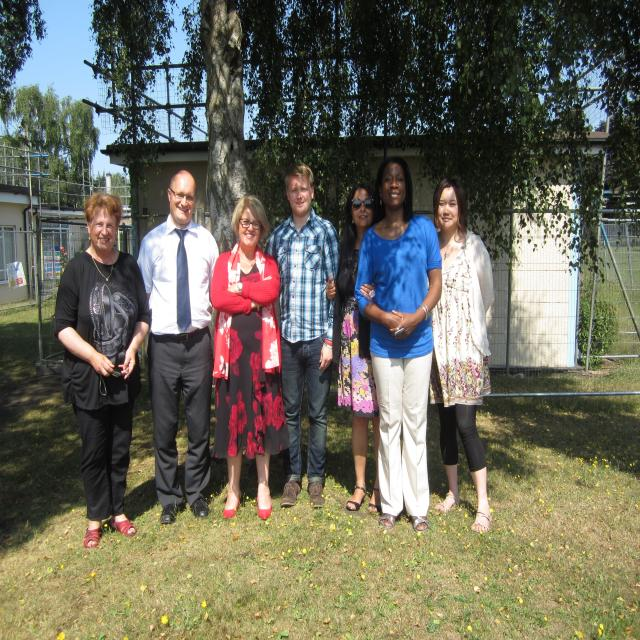body: (52, 191, 152, 549), (354, 155, 444, 532), (135, 169, 227, 526), (262, 162, 340, 506), (426, 176, 496, 533), (208, 195, 284, 521), (326, 182, 385, 515)
